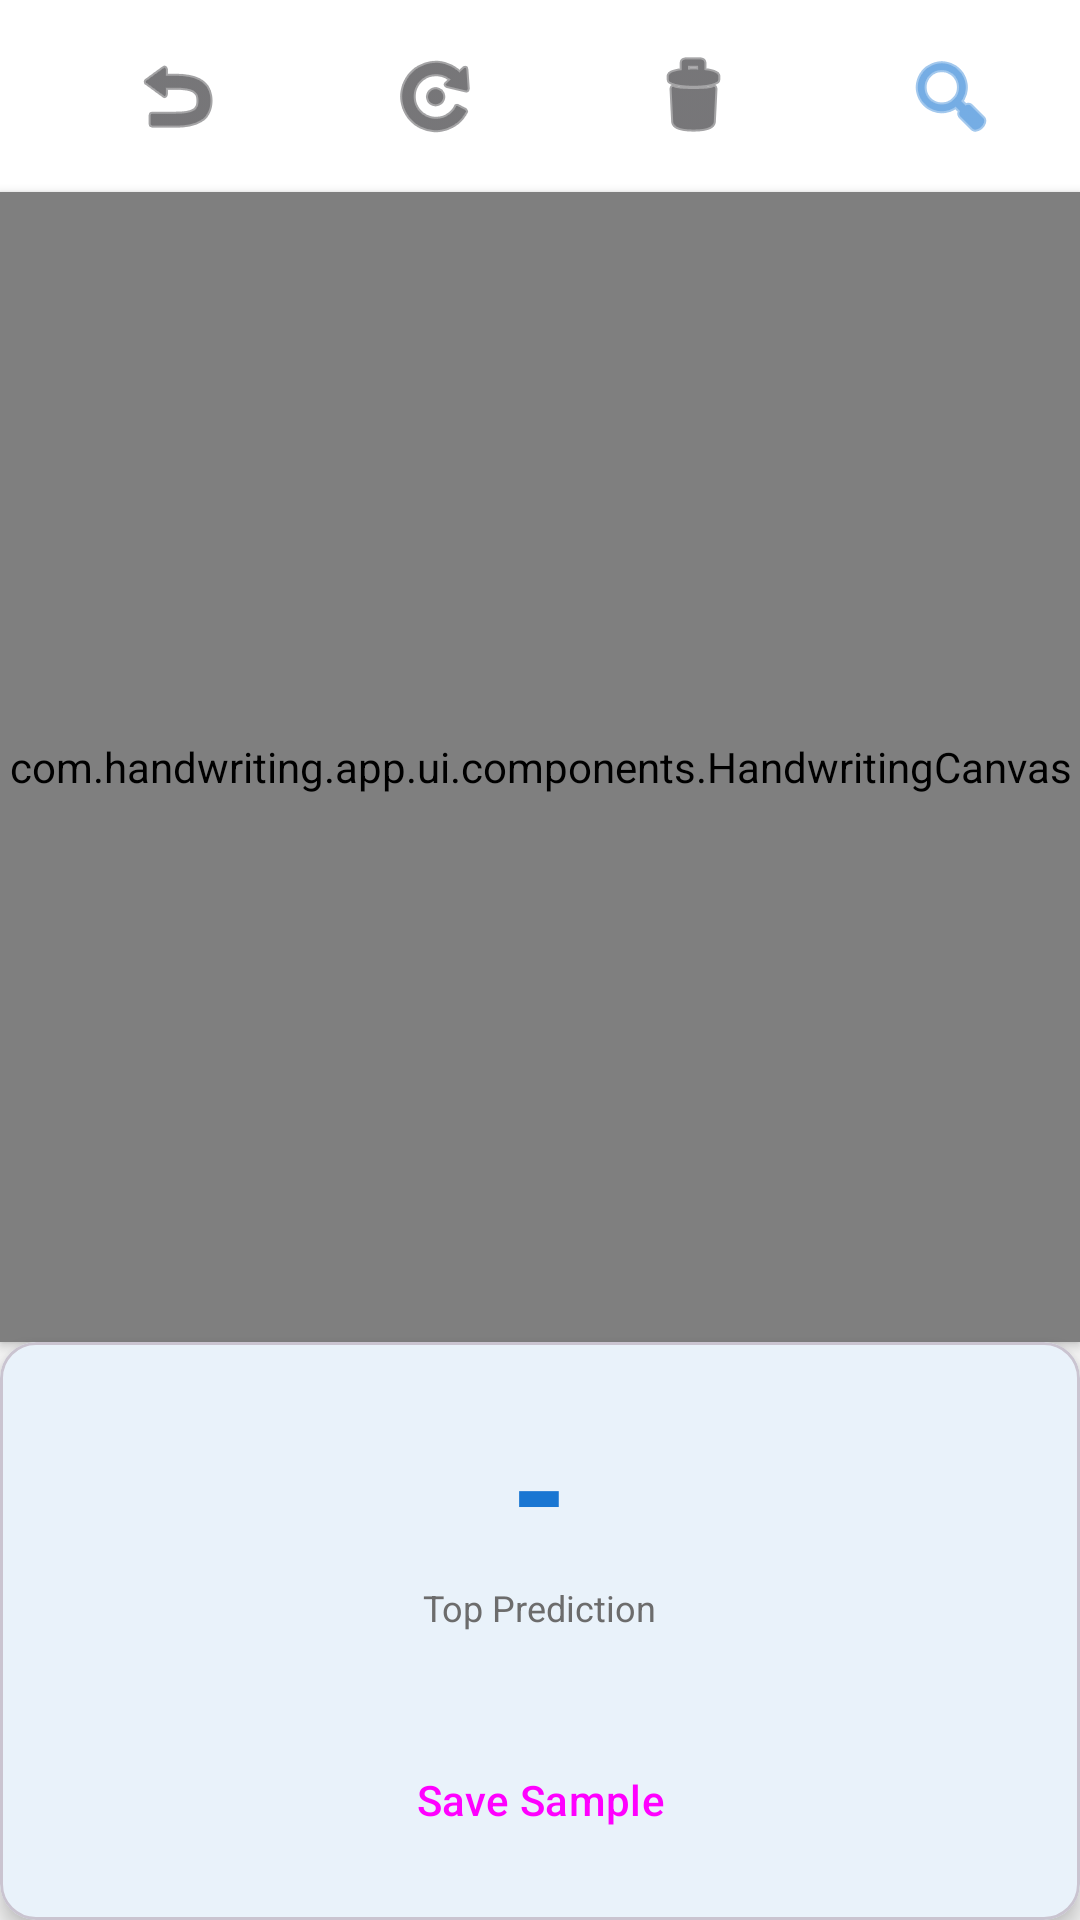

Icons on this 1080px×1920px Android screen, each with the point to tap as point (x, y):
Clear: point (693, 94)
Recognize: point (951, 96)
Redo: point (435, 96)
Undo: point (178, 96)
